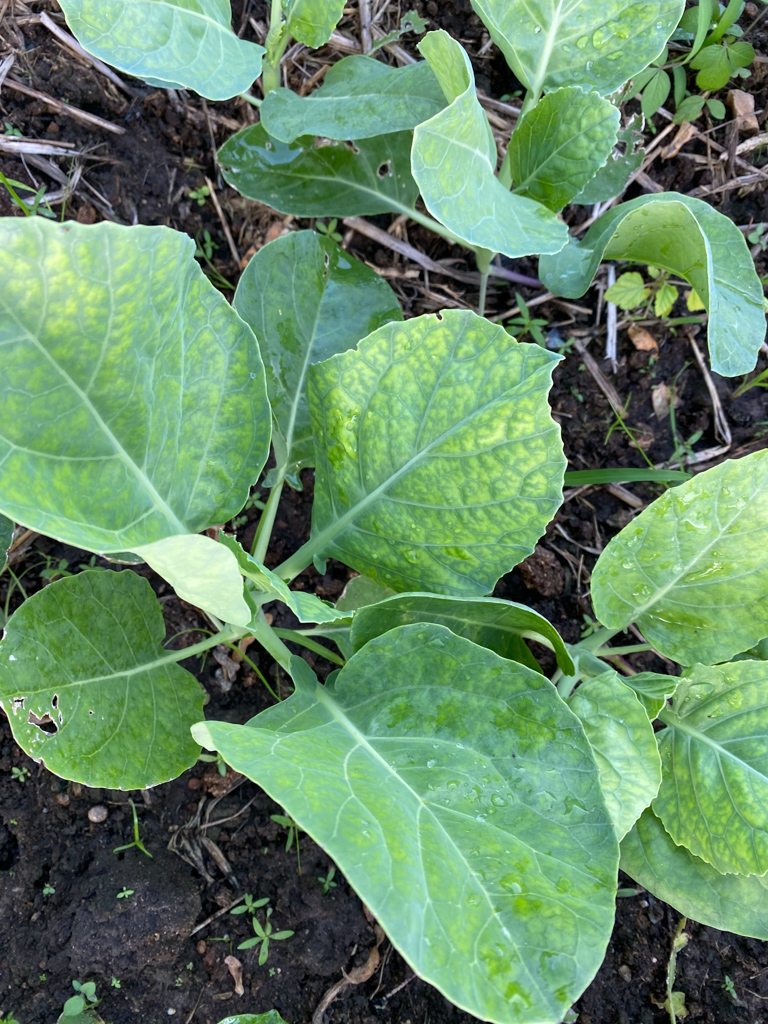Pepper yellow leaf: (299, 302, 563, 603), (0, 207, 221, 403), (656, 673, 764, 889)
